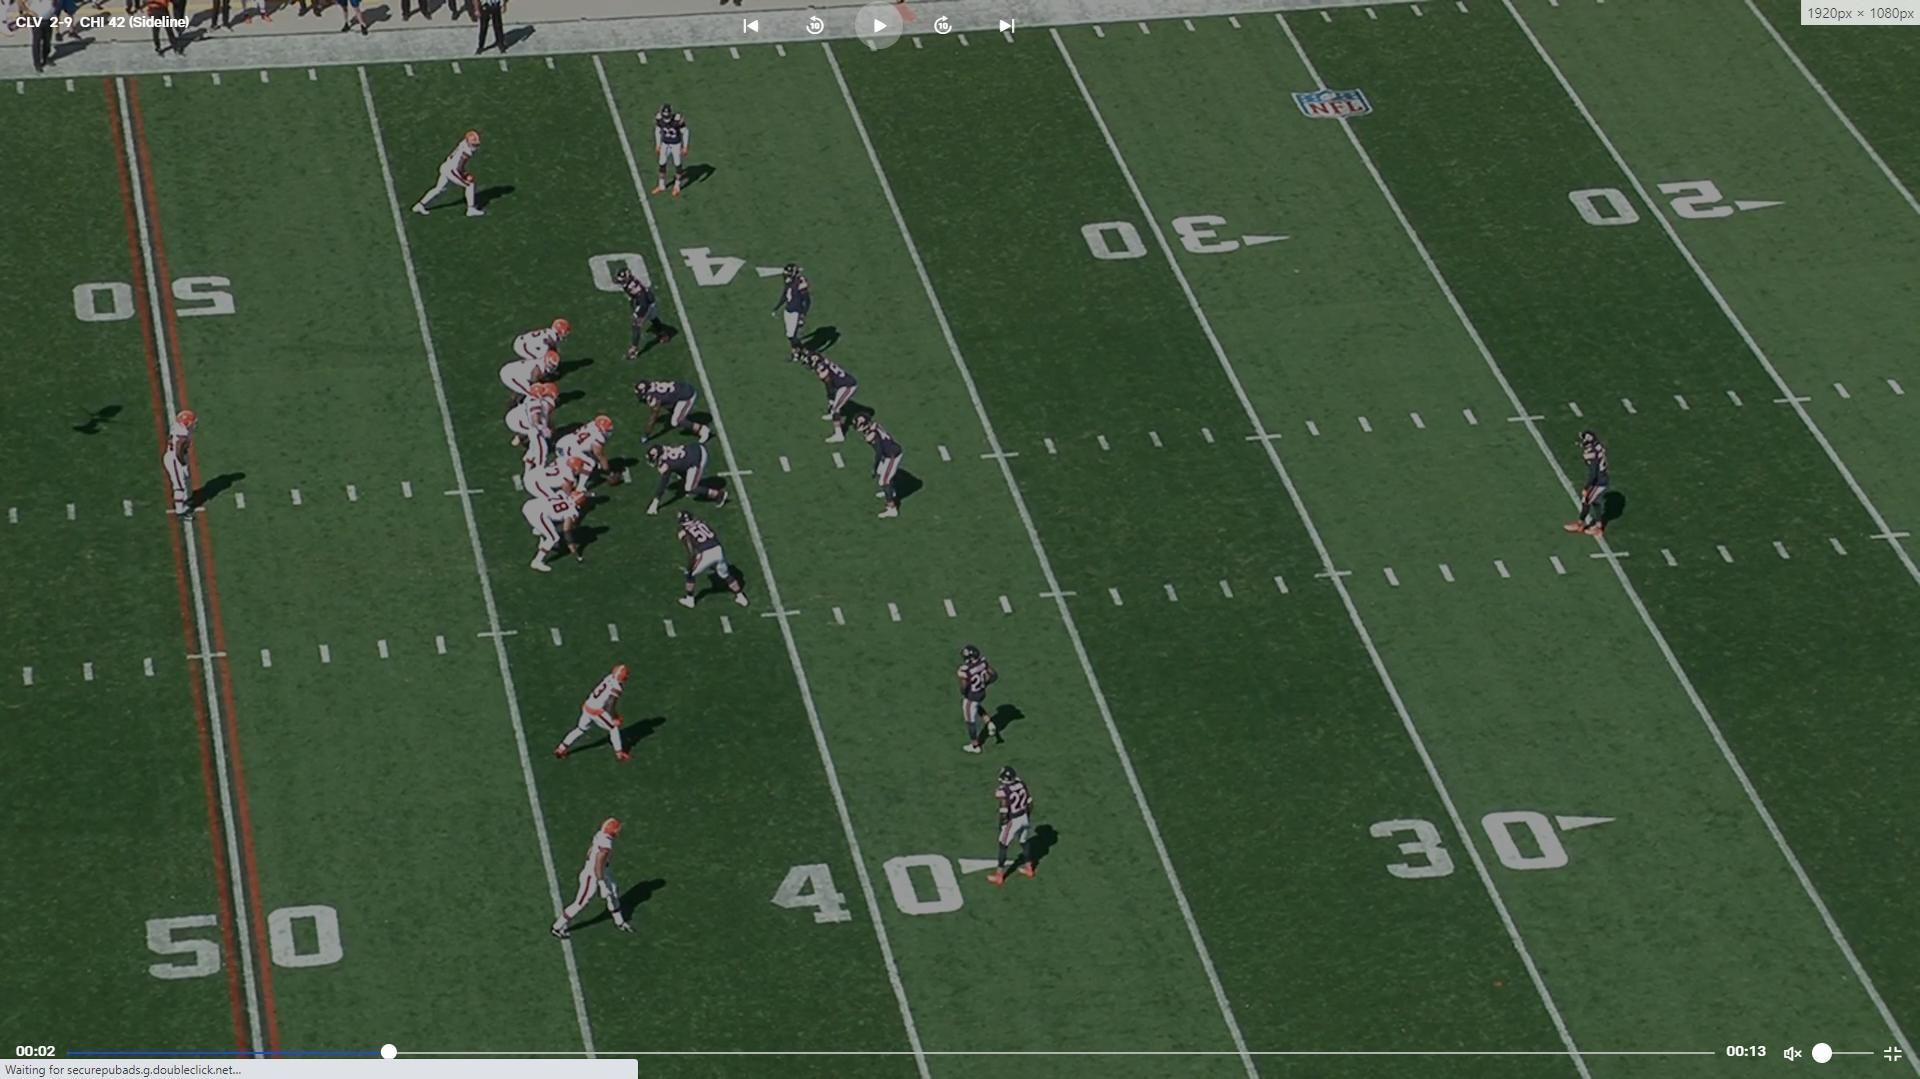defense: (669, 511, 750, 616), (984, 764, 1038, 889), (639, 442, 728, 516), (856, 412, 911, 525), (1563, 425, 1615, 541), (952, 643, 1001, 757), (630, 378, 712, 444), (617, 269, 674, 362), (812, 349, 863, 447), (648, 103, 692, 205), (782, 260, 819, 369)
oline: (525, 486, 594, 576), (557, 417, 624, 495), (504, 383, 559, 447), (503, 351, 566, 405), (523, 456, 587, 498)
qb: (507, 383, 563, 483)
ref: (474, 0, 518, 56)
skill: (547, 816, 638, 942), (544, 661, 636, 768), (408, 127, 490, 221), (161, 407, 198, 526), (511, 318, 572, 362)
